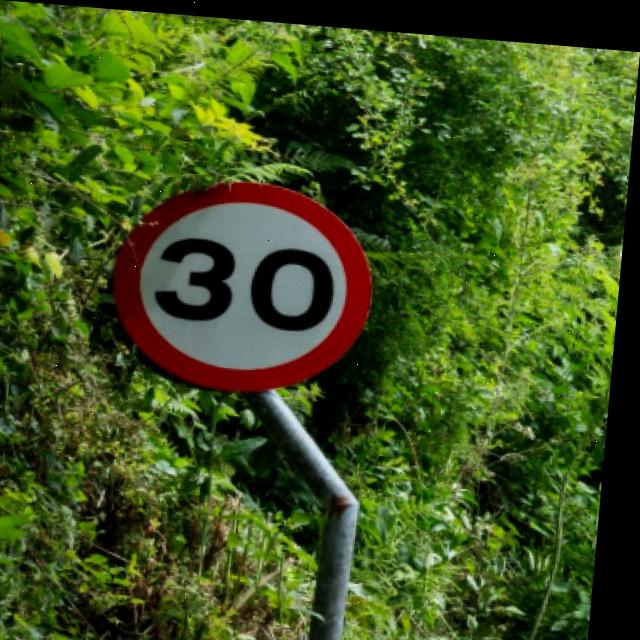Speed limit 30: (106, 166, 388, 398)
